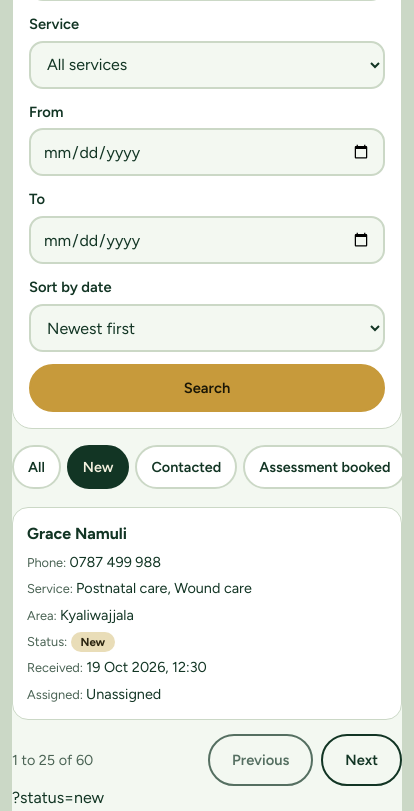
Scenario: EnquiriesPage › pages with Next and keeps the other filters
(page scrolled)
Expected: the text "1 to 25 of 60" is shown, top-left (12, 749), bottom-right (93, 771)
Click the button "Next" at (362, 760), box top-left (321, 734), bottom-right (402, 786)
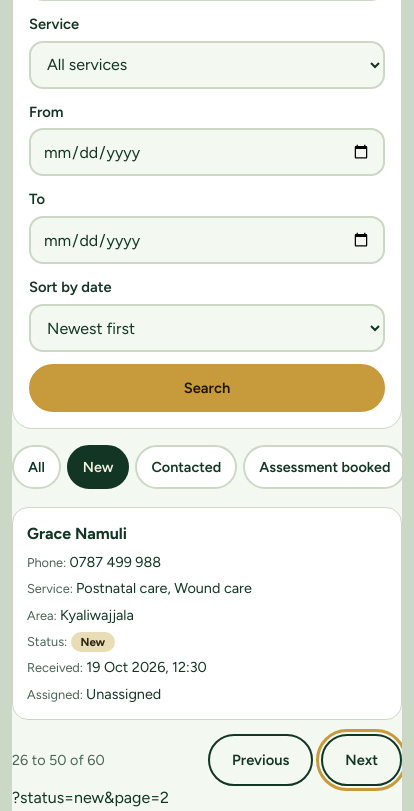
Now the text with test id "search" reads "?status=new&page=2", box top-left (12, 788), bottom-right (169, 807)
